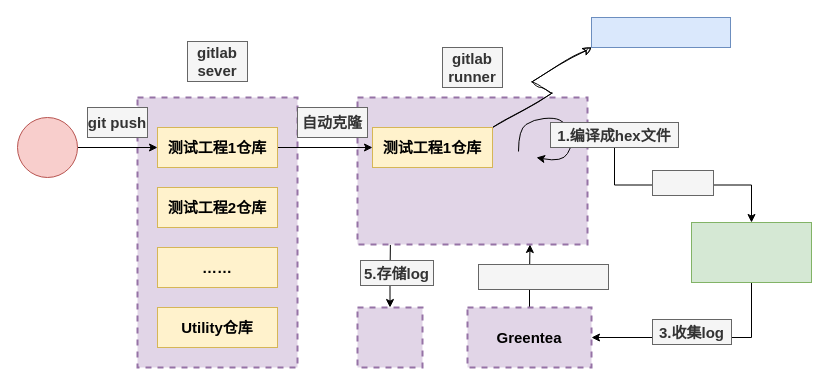
This 829x386 diagram has some shape labels left out. Each missing label, with the centre of its shape:
.gitlab_cicd.yml: pixel 660 32
2.烧录: pixel 683 183
4.解析及其他需求: pixel 543 277
RGW: pixel 389 337
开始: pixel 47 147
瑞萨RA系列 MCU: pixel 751 252
